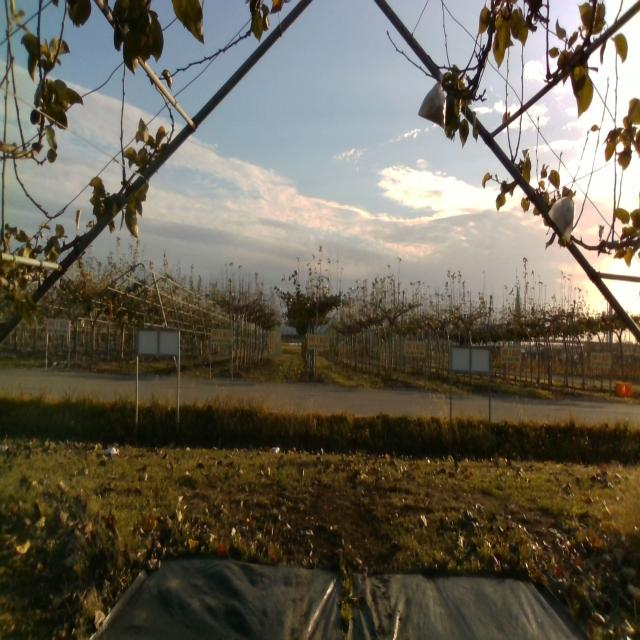pearbags: (548, 189, 578, 246), (418, 70, 446, 130)
